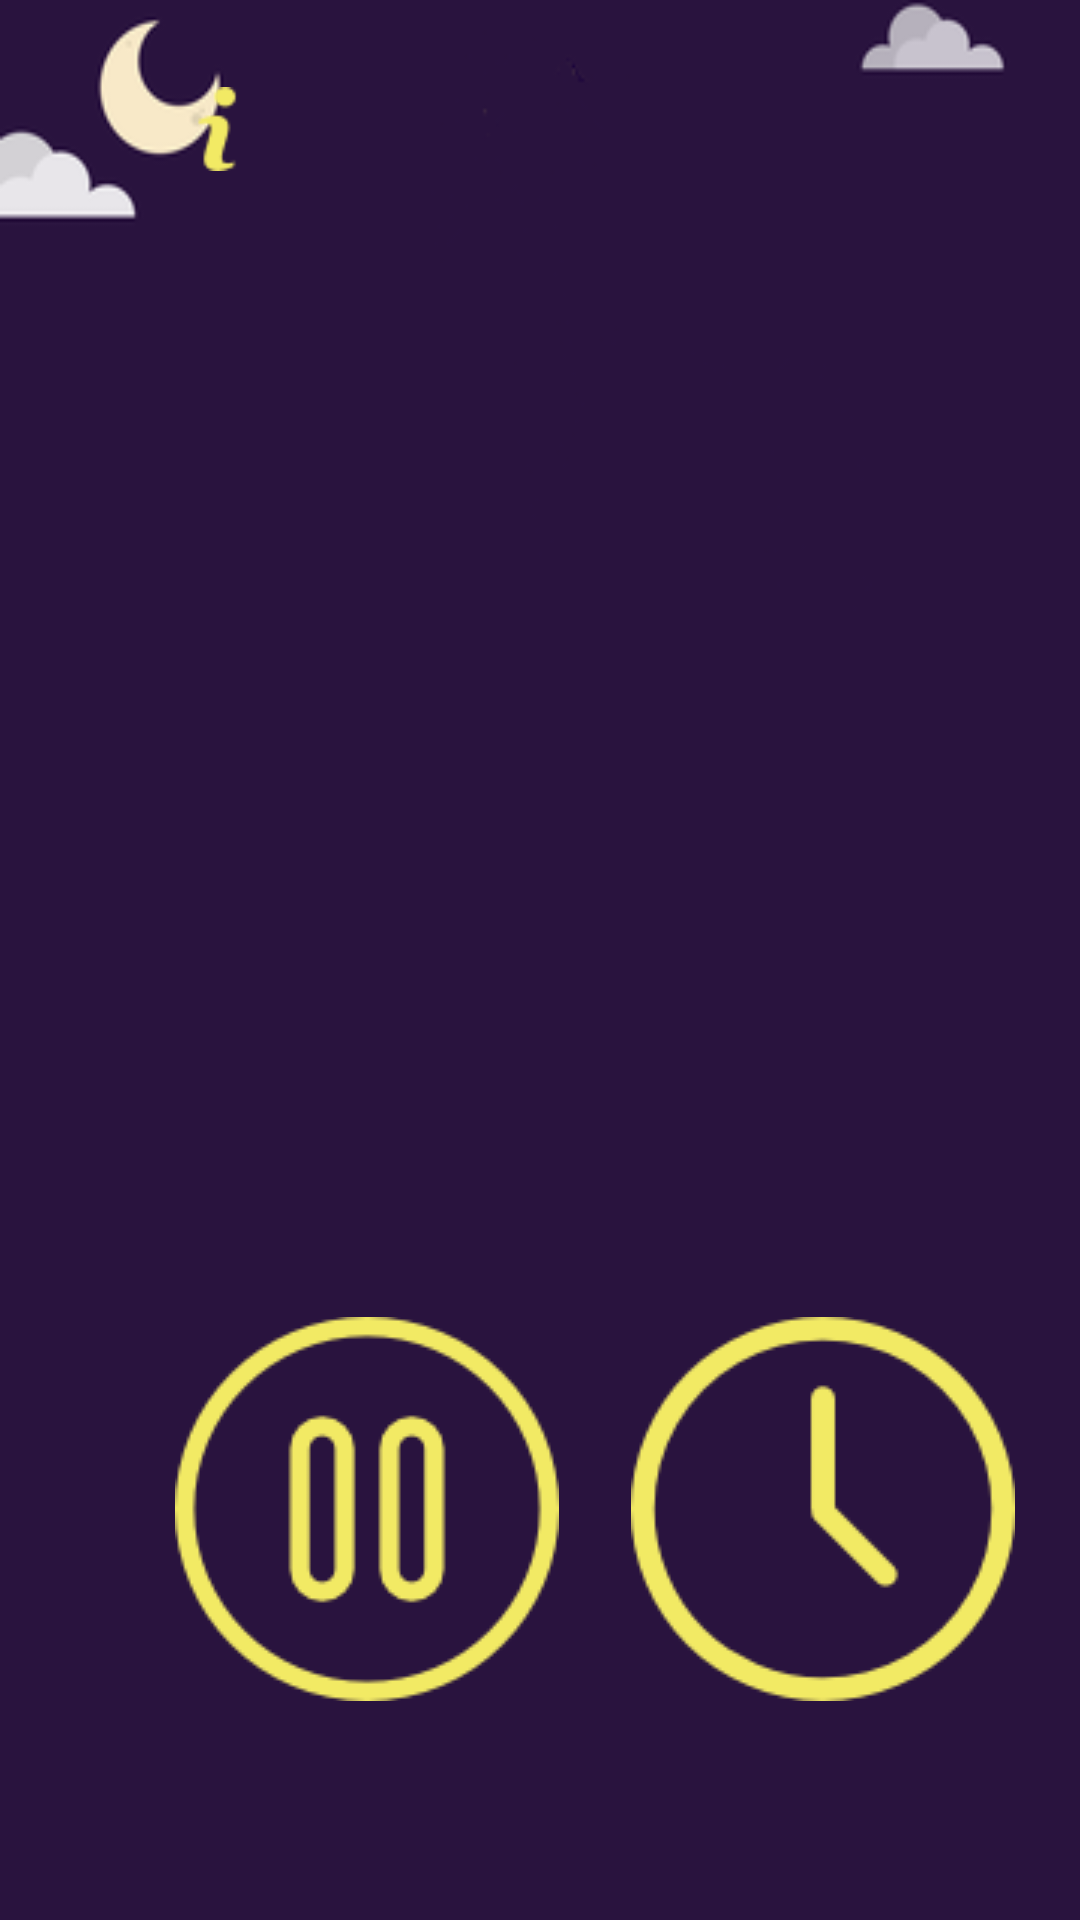

Icons on this 1080x1920 Android screen, each with the point to tap as (x,y):
info: (205,129)
